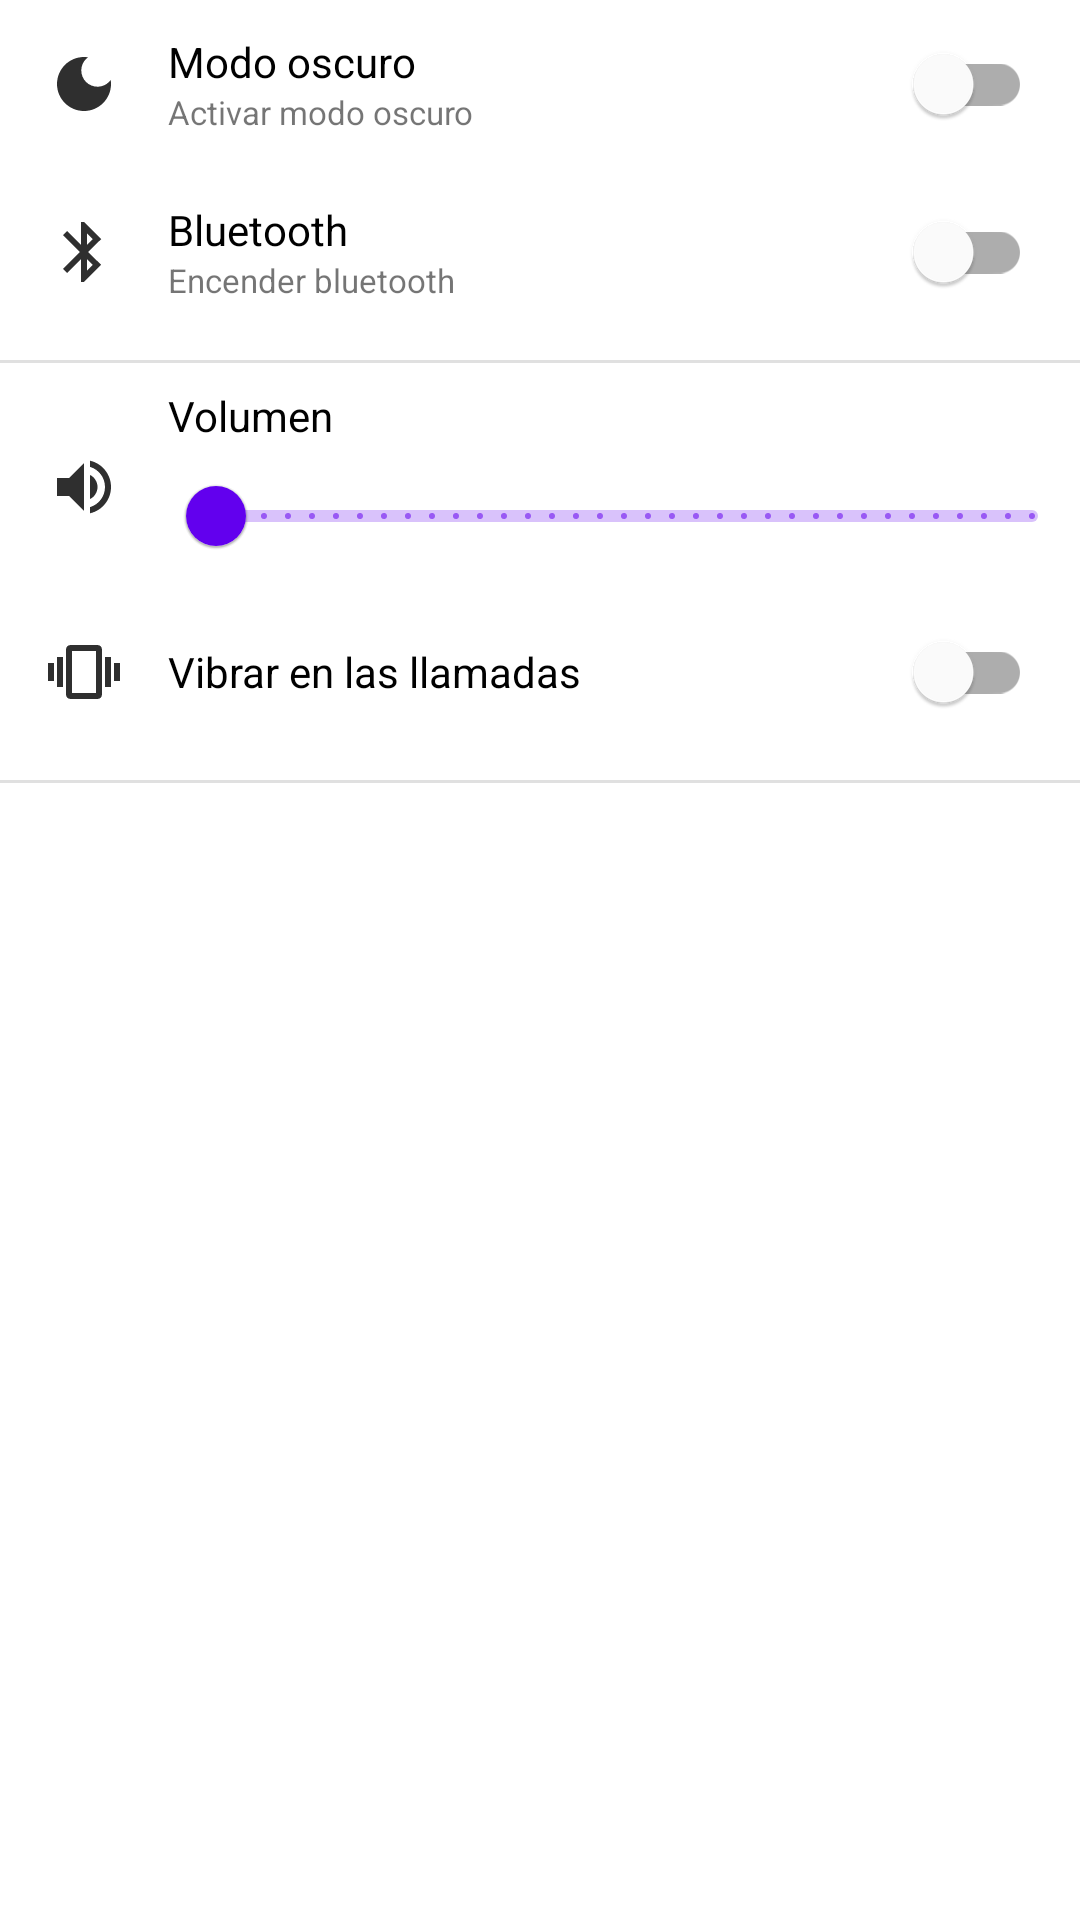

Screen size 1080px x 1920px. Icon name, then its center in pixels as [x,y]:
vibration: [84,672]
